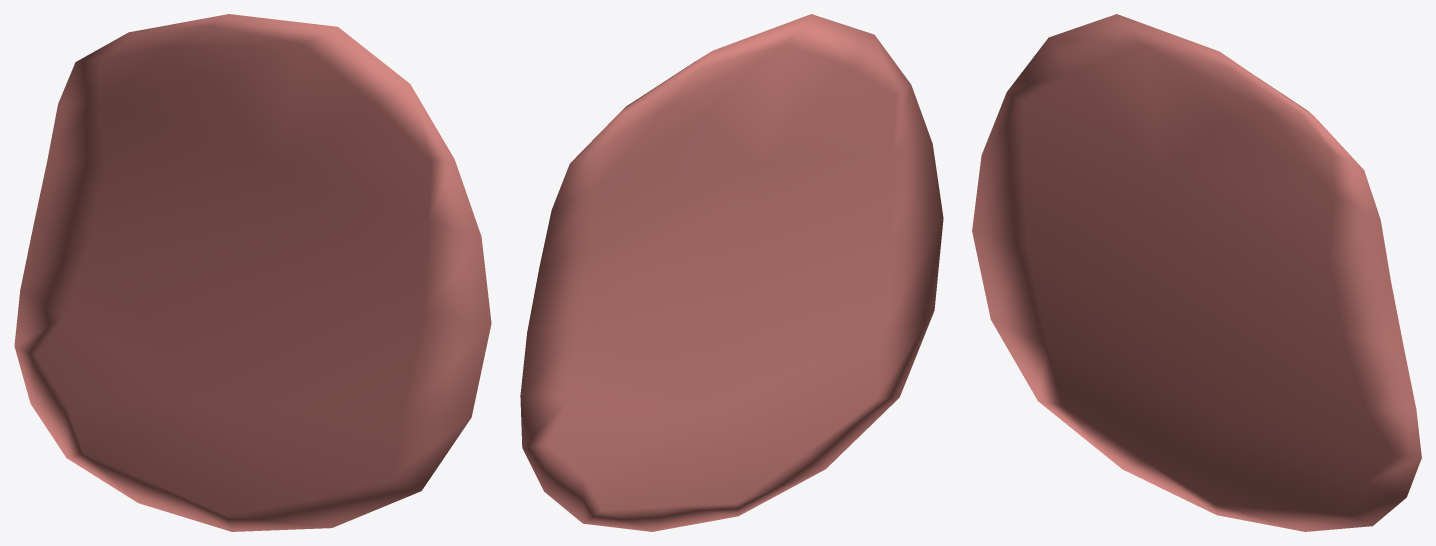
3 renders of one model, left to right at view 1: azimuth 90°, elevation 25°; view 2: azimuth 150°, elevation 25°; view 3: azimuth 270°, elevation 25°, orthographic. The views are drawn at different scales.
Parts seen in each view (by area): view 1: ZA_21a32c0fe8a17262; view 2: ZA_21a32c0fe8a17262; view 3: ZA_21a32c0fe8a17262.
Part boxes in pixels (x1,y1,x2,y2): ZA_21a32c0fe8a17262: [14, 14, 491, 531]; ZA_21a32c0fe8a17262: [520, 14, 943, 531]; ZA_21a32c0fe8a17262: [972, 14, 1421, 531].
Bounding box in the file's own units: 0.00514 × 0.0112 × 0.00931.
